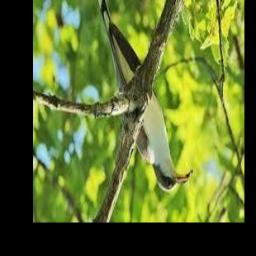Cuckoo: (89, 0, 190, 192)
